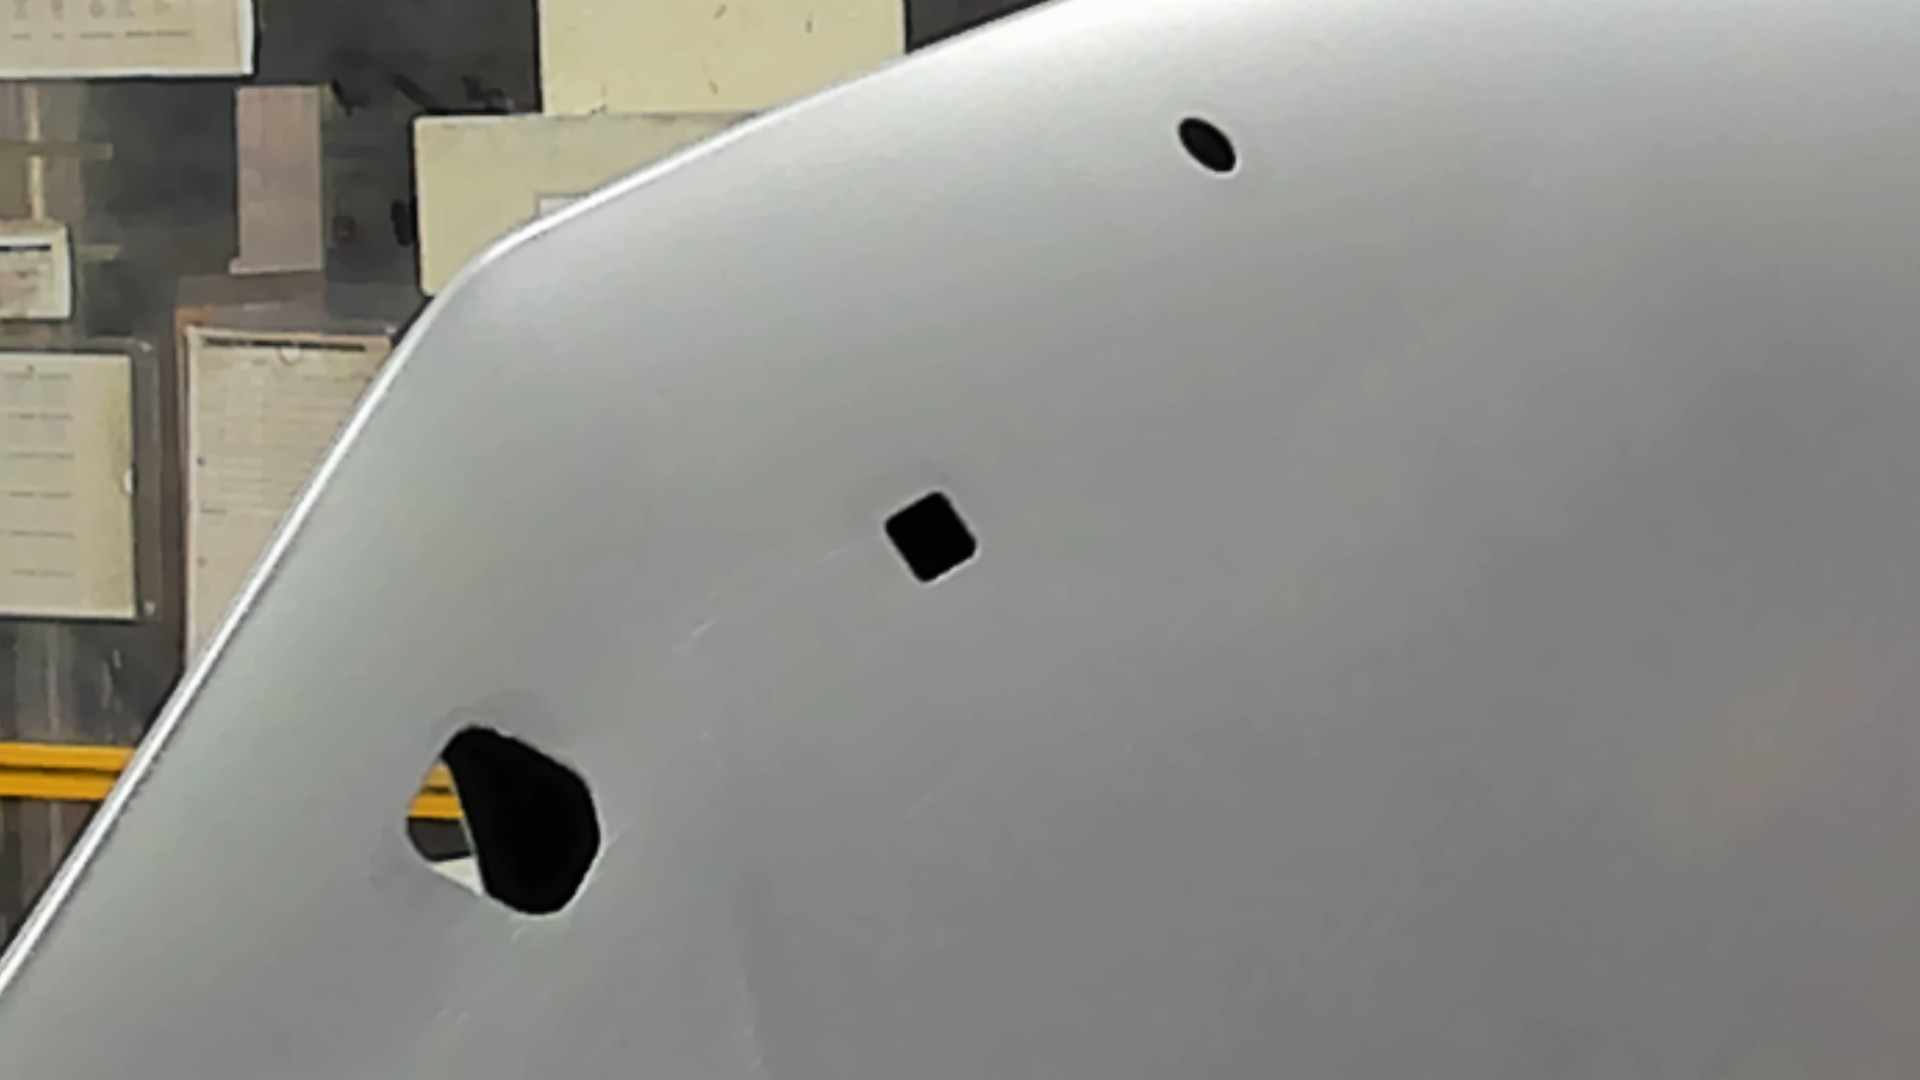chico: (1175, 113, 1240, 173)
grande: (401, 721, 607, 920)
mediano: (880, 489, 980, 585)
